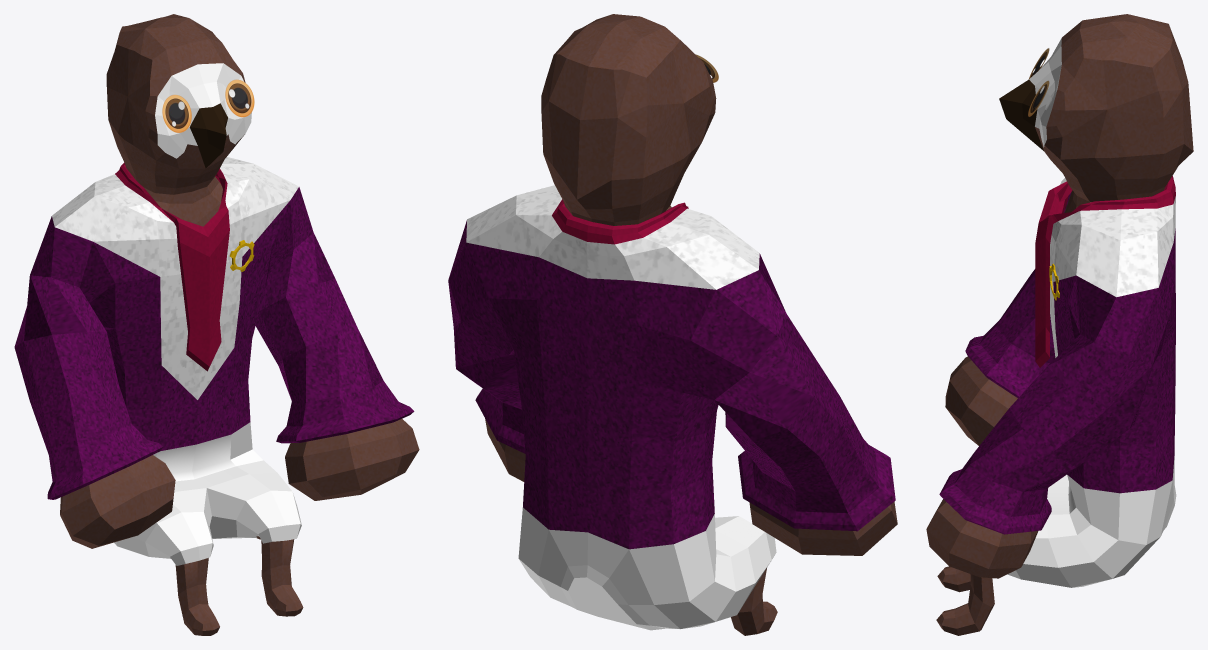
File: Buho.glb
3 renders of one model, left to right at view 1: azimuth 30°, elevation 25°; view 2: azimuth 150°, elevation 25°; view 3: azimuth 270°, elevation 25°, orthographic. The views are drawn at different scales.
Parts seen in each view (by area): view 1: Plane.005; view 2: Plane.005; view 3: Plane.005.
Part boxes in pixels (left/top/right/bottom): Plane.005: left=14, top=14, right=419, bottom=635; Plane.005: left=448, top=14, right=897, bottom=635; Plane.005: left=926, top=14, right=1193, bottom=635.
Bounding box in the file's own units: 1.83 × 2.77 × 1.13.
9 materials, 5 textured.
